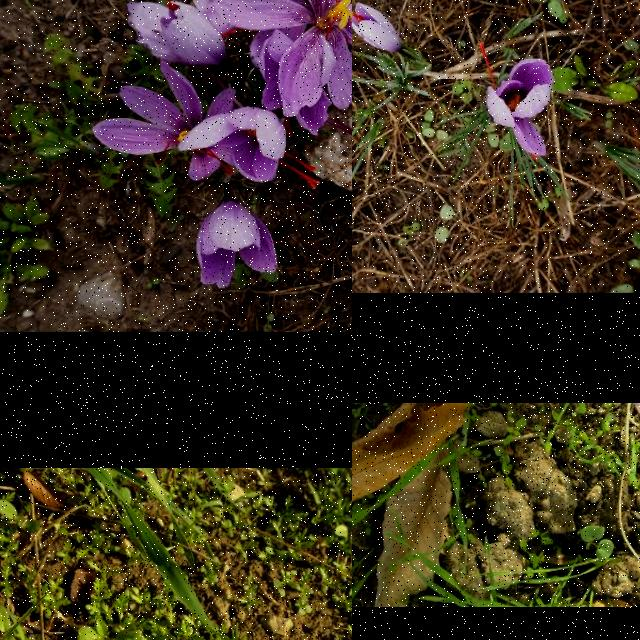flower: (177, 106, 321, 192), (476, 41, 554, 162), (196, 204, 280, 290), (158, 0, 234, 70), (352, 2, 404, 53)
overlap: (91, 0, 352, 180)
